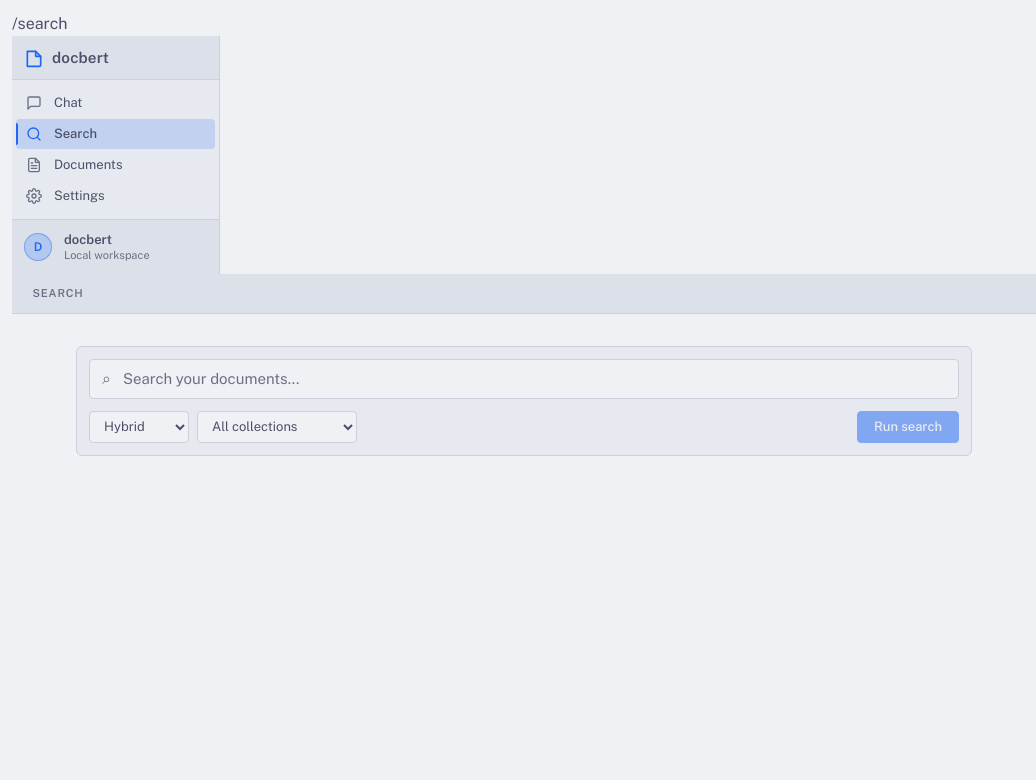
Scenario: Search page › shows error state when a search fails
Type "rust" into the search field named "Query".
click(534, 379); type("rust")  # box [123,361,946,397]
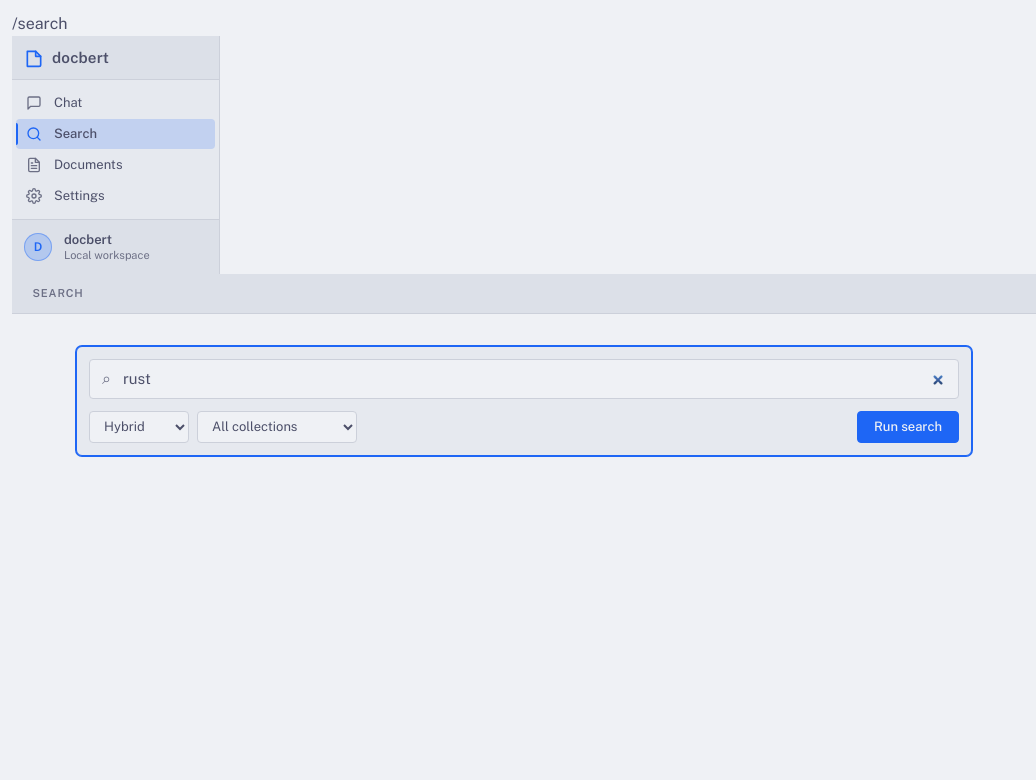
Click the button "Run search".
click(908, 427)  # box [857,411,959,443]
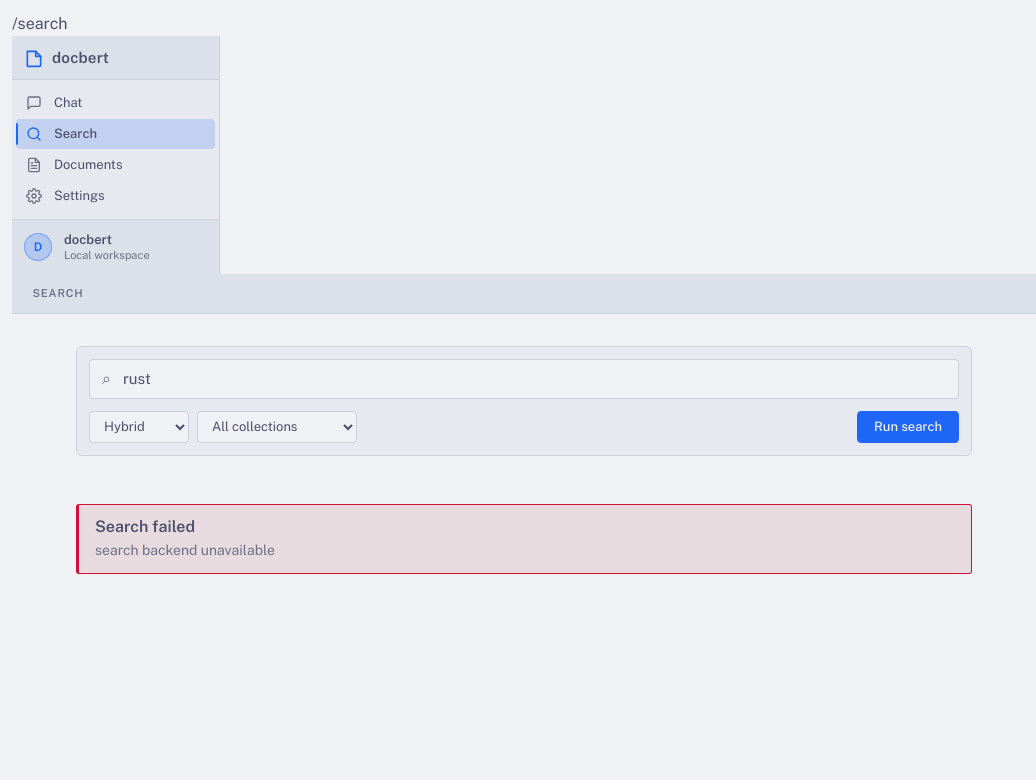
Expected: the message shows "Search failed", [95,517,195,536]
Expected: the message shows "search backend unavailable", [95,542,275,558]
